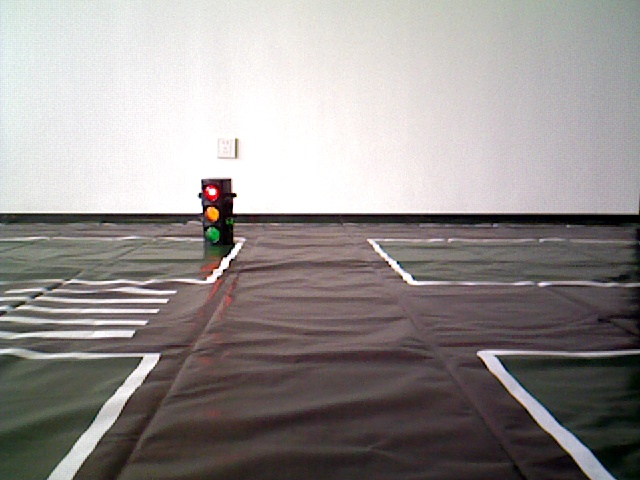red: (199, 179, 231, 248)
